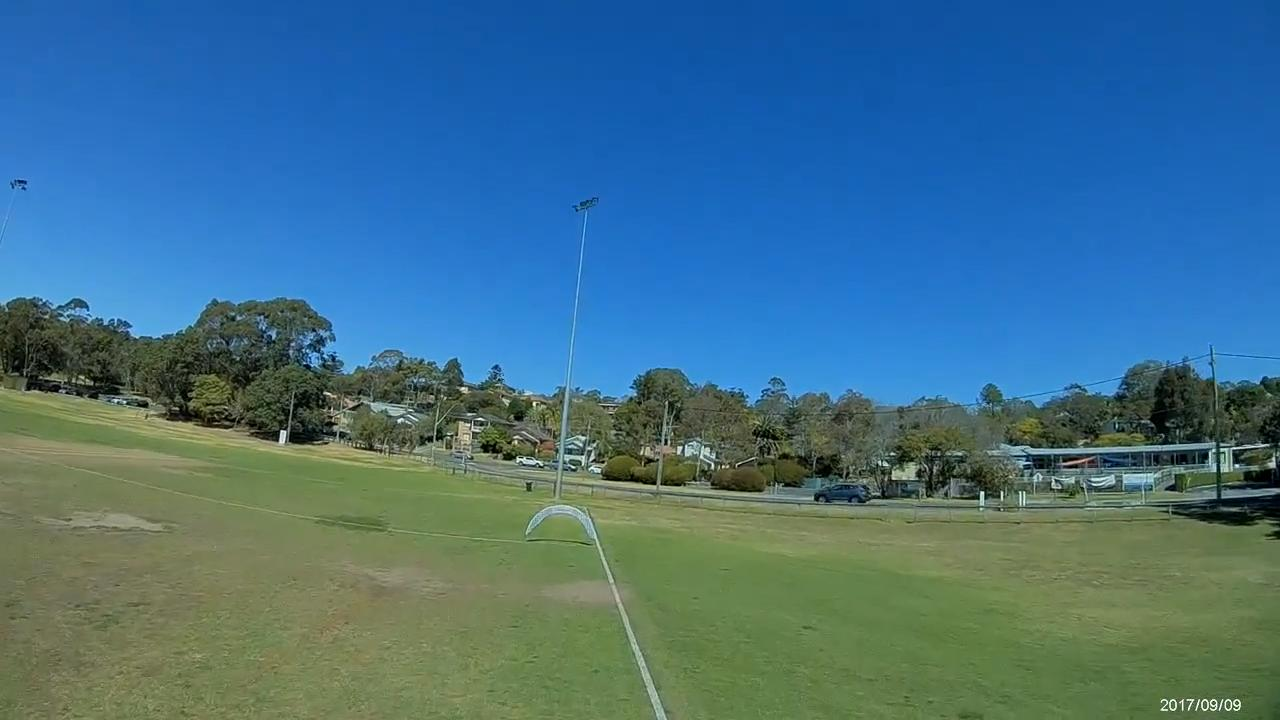gate: (524, 504, 596, 544)
